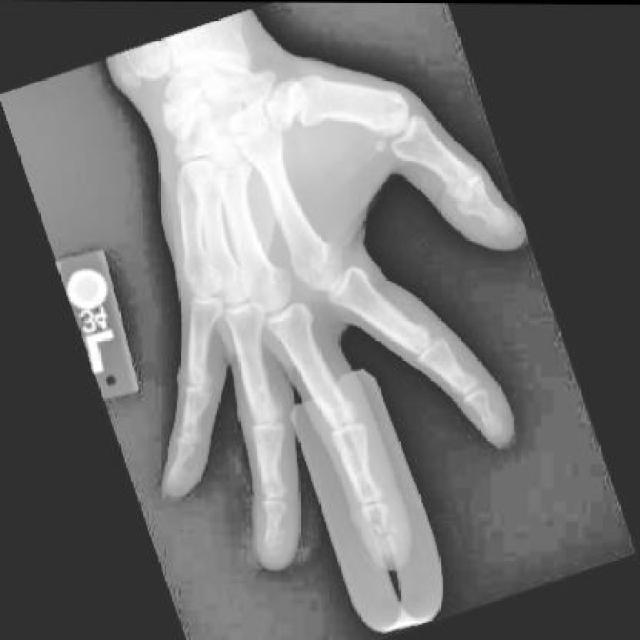Fracture: (363, 512, 406, 557), (260, 518, 293, 551)
